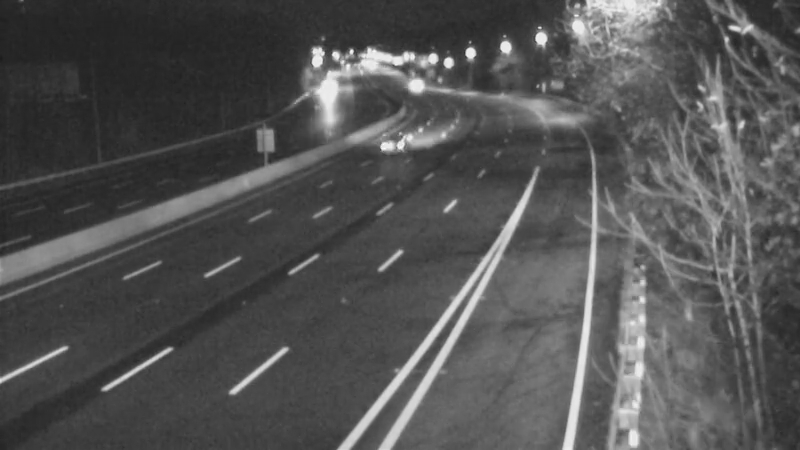vehicle: (386, 60, 436, 110), (367, 119, 417, 169), (302, 73, 352, 123)
